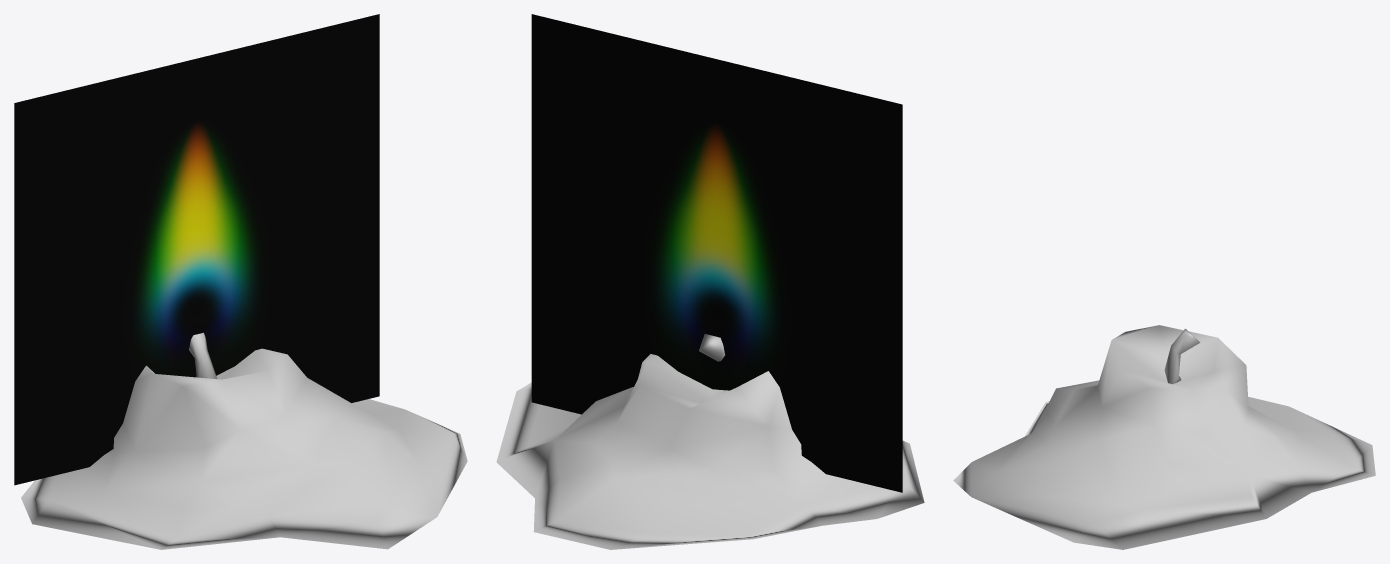
Rendered from Candle_Low.fbx.
3 views of the same model, side by side, from view 1: azimuth 30°, elevation 25°; view 2: azimuth 150°, elevation 25°; view 3: azimuth 270°, elevation 25° (orthographic). The views are drawn at different scales.
Visible parts, largest first — view 1: Candle_Flame.002, Candle_Low; view 2: Candle_Flame.002, Candle_Low; view 3: Candle_Low.
Boxes of the visible parts, <box> form: Candle_Flame.002: <box>14,14,379,485</box>; Candle_Low: <box>21,332,467,549</box>; Candle_Flame.002: <box>531,14,902,492</box>; Candle_Low: <box>496,334,924,549</box>; Candle_Low: <box>953,325,1375,549</box>.
Bounding box in the file's own units: 34.08 × 32.98 × 34.16.
